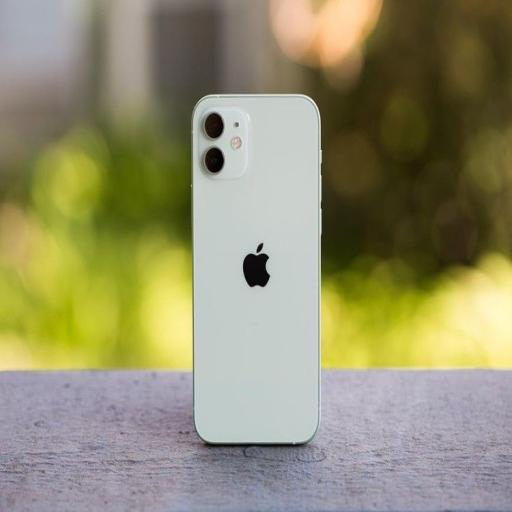people: (189, 84, 329, 458)
